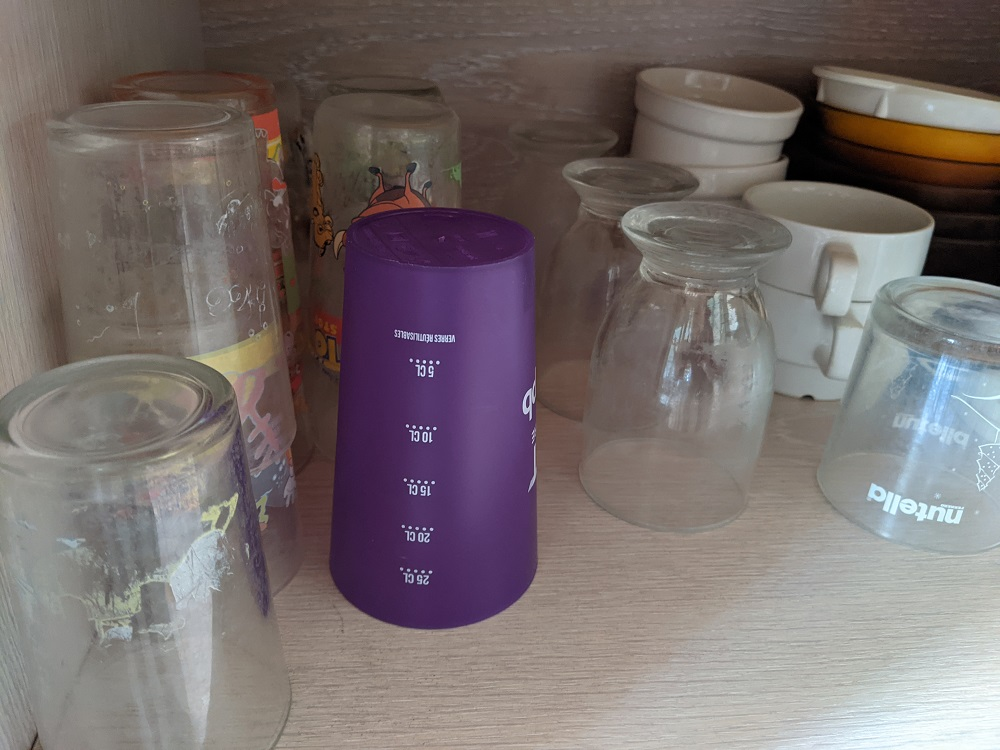ecocup: (329, 208, 537, 630)
